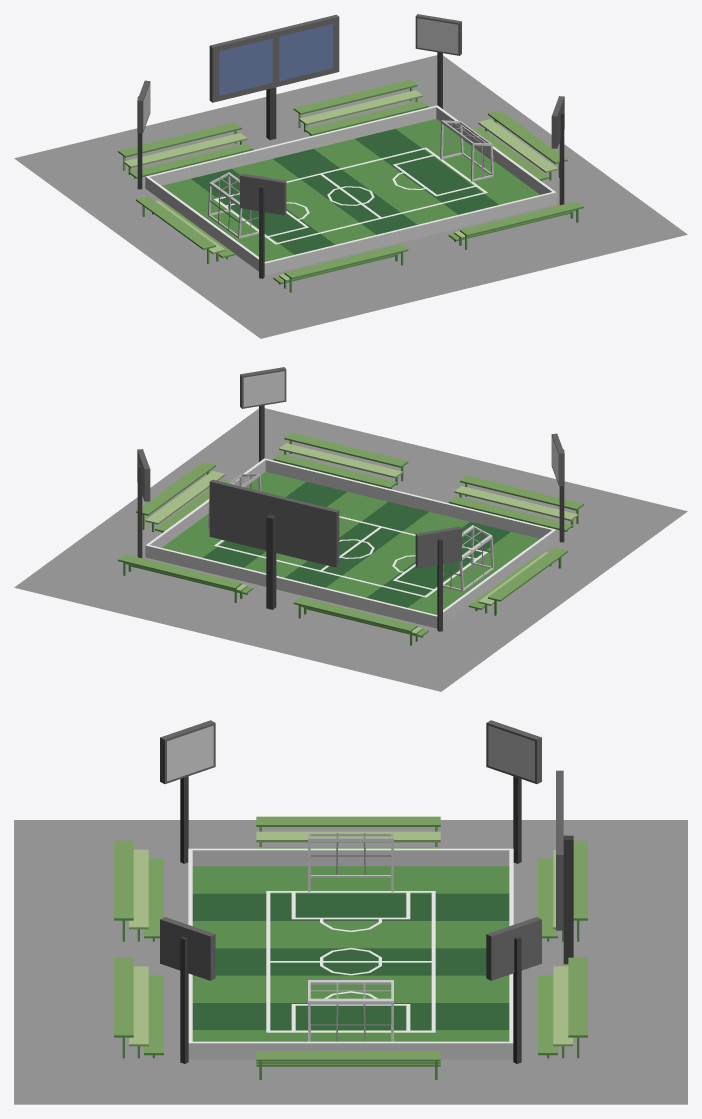
Rendered from stadium_001.fbx.
3 views of the same model, one above another, from view 1: azimuth 30°, elevation 25°; view 2: azimuth 150°, elevation 25°; view 3: azimuth 270°, elevation 25° (orthographic). The views are drawn at different scales.
Visible parts, largest first — view 1: stadium_001; view 2: stadium_001; view 3: stadium_001.
Part boxes in pixels (x1,y1,x2,y2): stadium_001: (14,14,687,338); stadium_001: (14,367,687,691); stadium_001: (14,720,687,1104).
Bounding box in the file's own units: 1600 × 403 × 1600.
